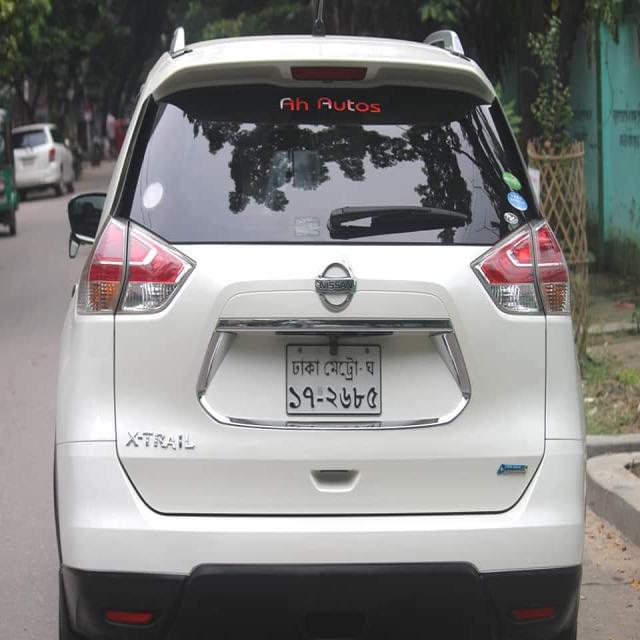white: (27, 57, 592, 640), (8, 94, 71, 203)
